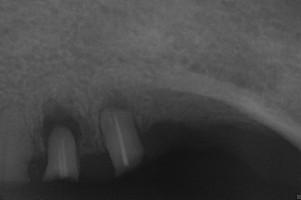Furcation Involvement: (41, 98, 85, 144), (100, 89, 135, 112)
